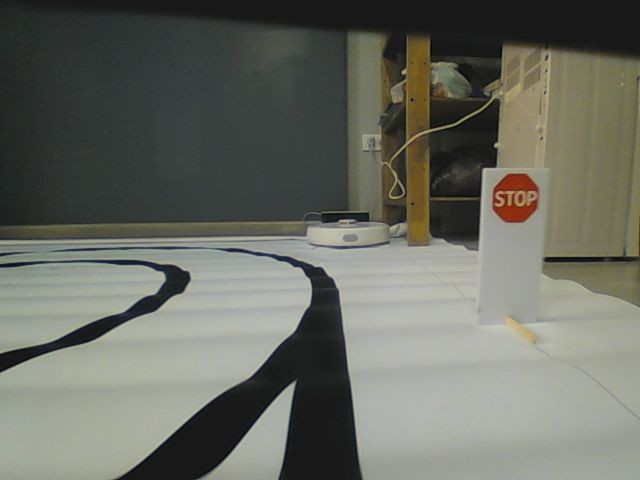Stop: (490, 171, 540, 224)
